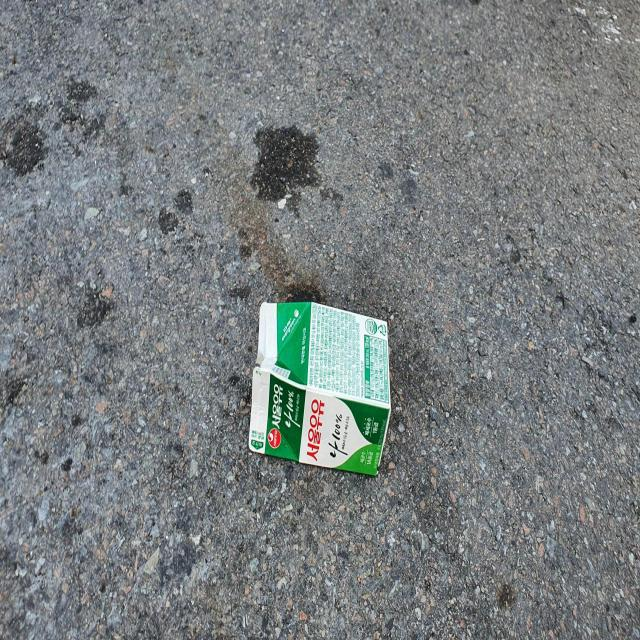paperpack: (248, 300, 391, 475)
